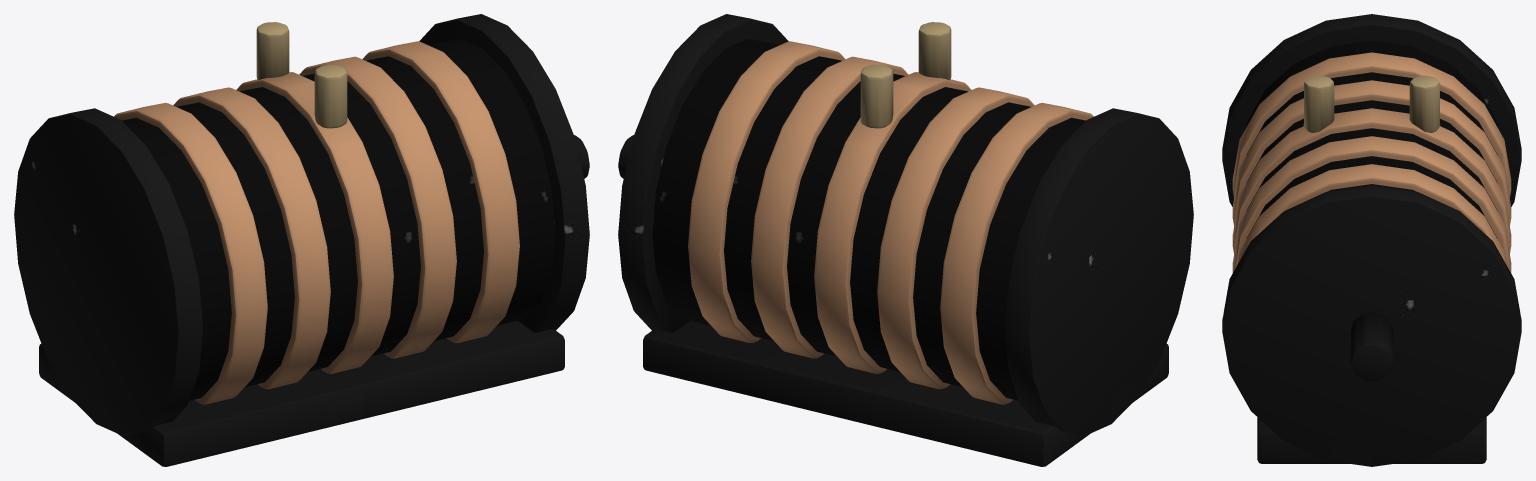
File: dynamo.glb
3 renders of one model, left to right at view 1: azimuth 30°, elevation 25°; view 2: azimuth 150°, elevation 25°; view 3: azimuth 270°, elevation 25°, orthographic. The views are drawn at different scales.
Visible parts, largest first — view 1: boat_iron, boat_copper, boat_brass; view 2: boat_iron, boat_copper, boat_brass; view 3: boat_iron, boat_copper, boat_brass.
Boxes of the visible parts, x1=… form: boat_iron: x1=14, y1=14, x2=589, y2=466; boat_copper: x1=114, y1=41, x2=519, y2=404; boat_brass: x1=256, y1=22, x2=347, y2=128; boat_iron: x1=618, y1=14, x2=1193, y2=466; boat_copper: x1=688, y1=41, x2=1093, y2=404; boat_brass: x1=860, y1=22, x2=951, y2=128; boat_iron: x1=1222, y1=14, x2=1521, y2=466; boat_copper: x1=1232, y1=52, x2=1511, y2=272; boat_brass: x1=1303, y1=75, x2=1440, y2=132.
Size of the model in its own units: 0.575 by 0.37 by 0.34.
Materials: 3 (1 with a texture image).
